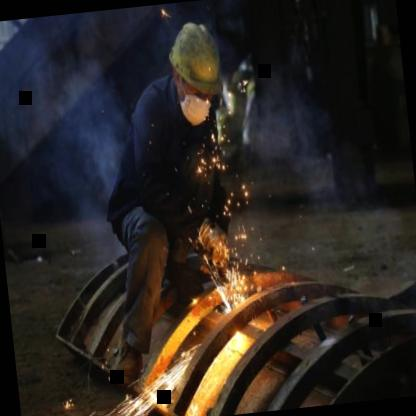helmet: (164, 14, 227, 121)
